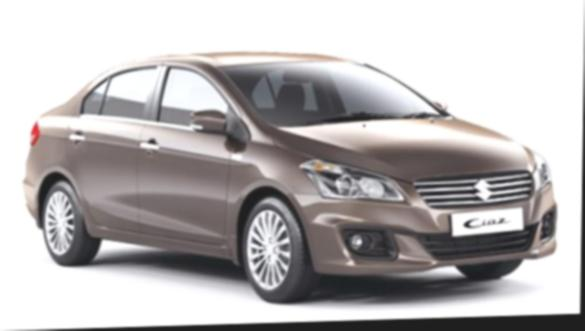License_Plate: (445, 206, 522, 230)
